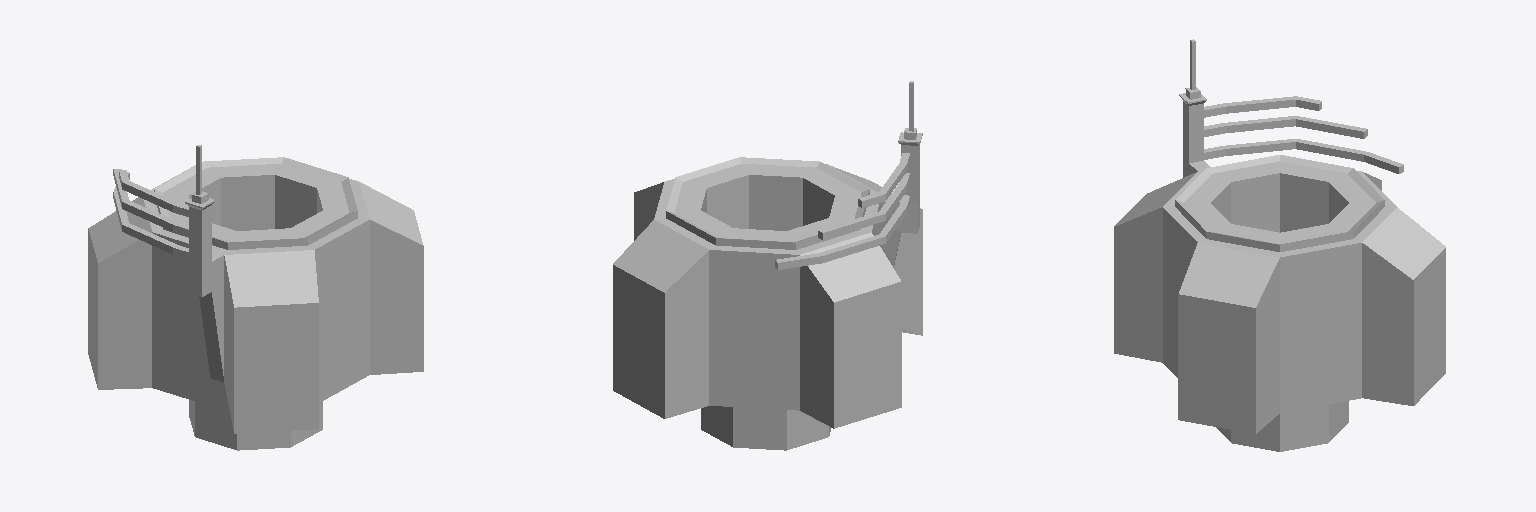
File: OreShaft.obj
The picture shows the model from 3 angles: view 1: azimuth 30°, elevation 25°; view 2: azimuth 150°, elevation 25°; view 3: azimuth 270°, elevation 25°; orthographic projection.
Size of the model in its own units: 17.53 by 19.13 by 17.33.